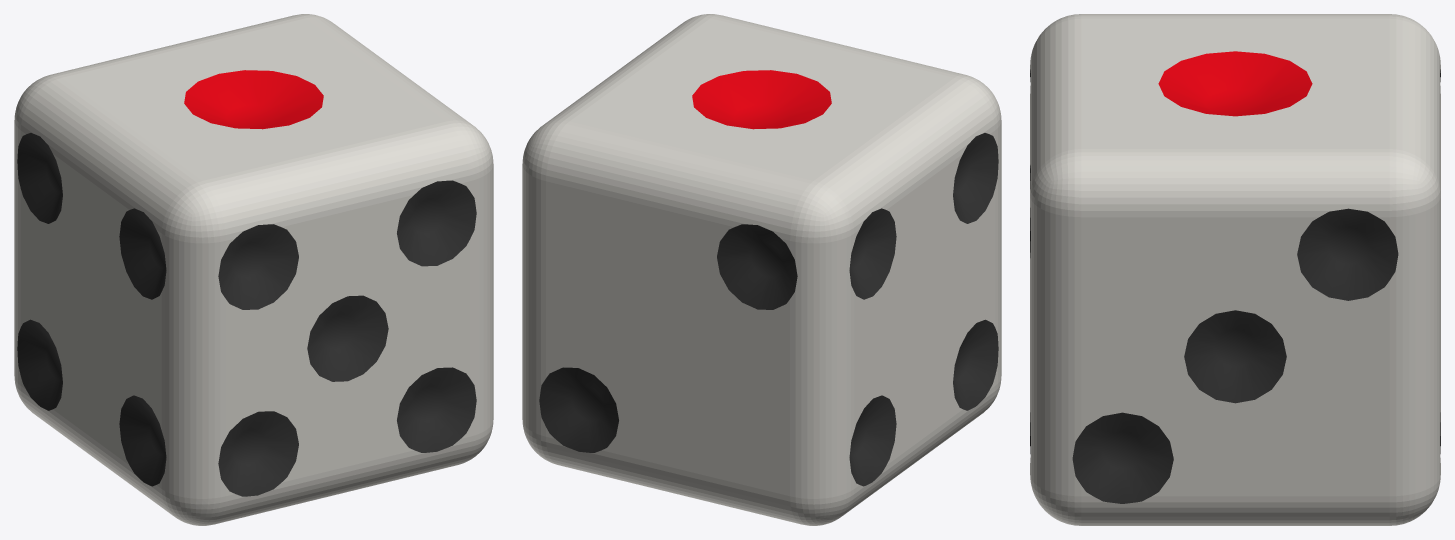
The model's file is die.fbx.
The picture shows the model from 3 angles, left to right: view 1: azimuth 30°, elevation 25°; view 2: azimuth 150°, elevation 25°; view 3: azimuth 270°, elevation 25°; orthographic projection. The views are drawn at different scales.
Visible parts, largest first — view 1: Cube; view 2: Cube; view 3: Cube.
Boxes of the visible parts, <box> form: Cube: <box>14,14,493,525</box>; Cube: <box>522,14,1001,525</box>; Cube: <box>1030,14,1440,525</box>.
Bounding box in the file's own units: 200 × 200 × 200.
